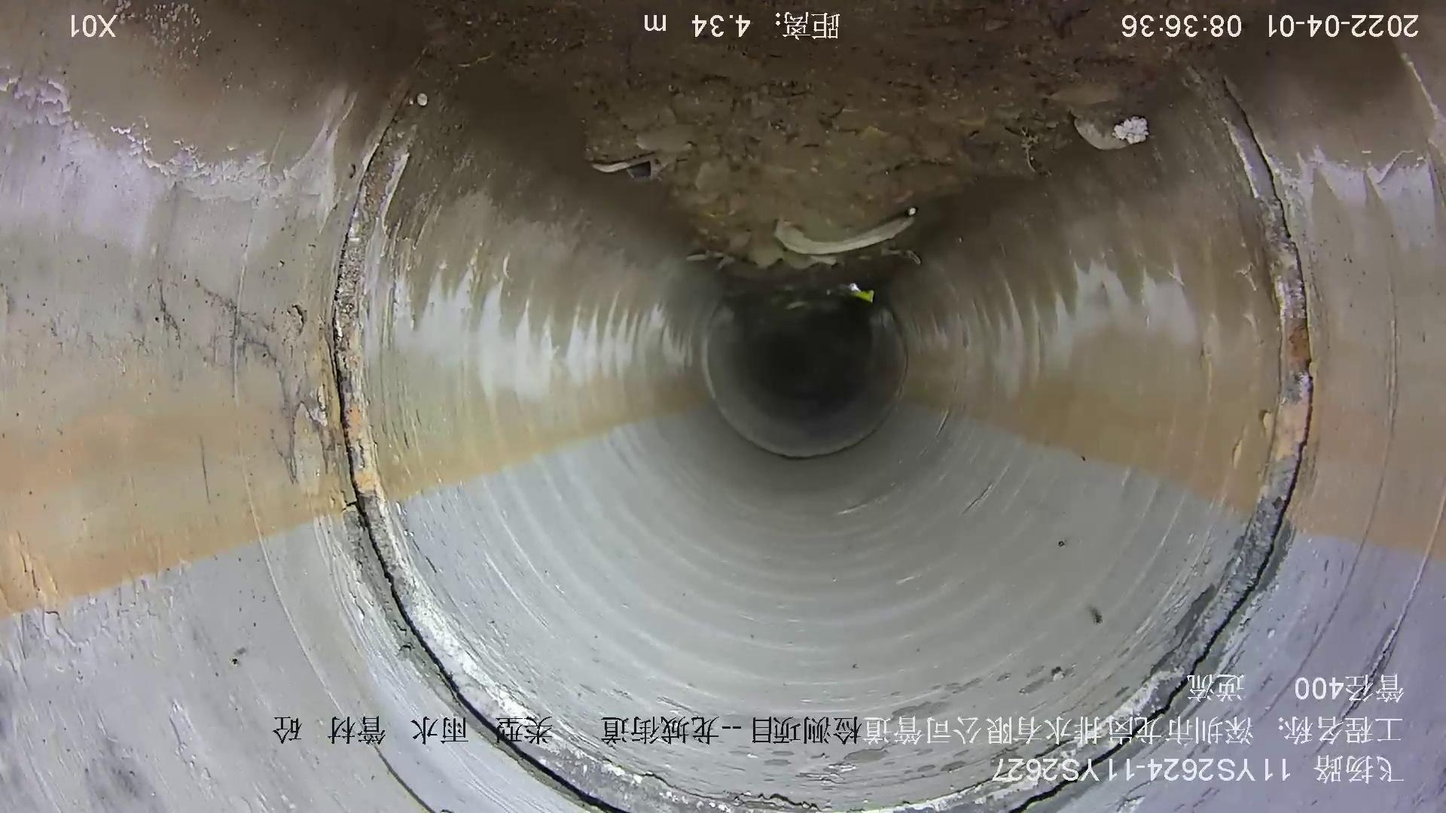CJ: (419, 1, 1241, 303)
CKTJ: (331, 81, 798, 813), (816, 176, 1313, 813)
